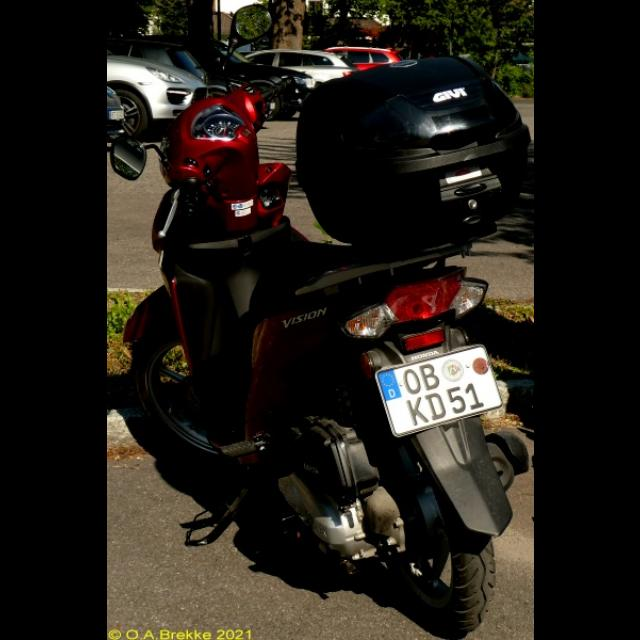d_license_plate: (375, 345, 501, 435)
